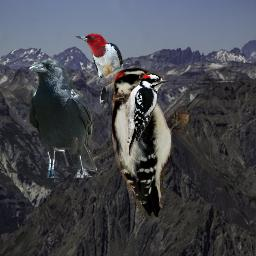Crow: (29, 59, 97, 178)
Woodpecker: (112, 68, 189, 217), (113, 73, 168, 156), (75, 33, 124, 111)
